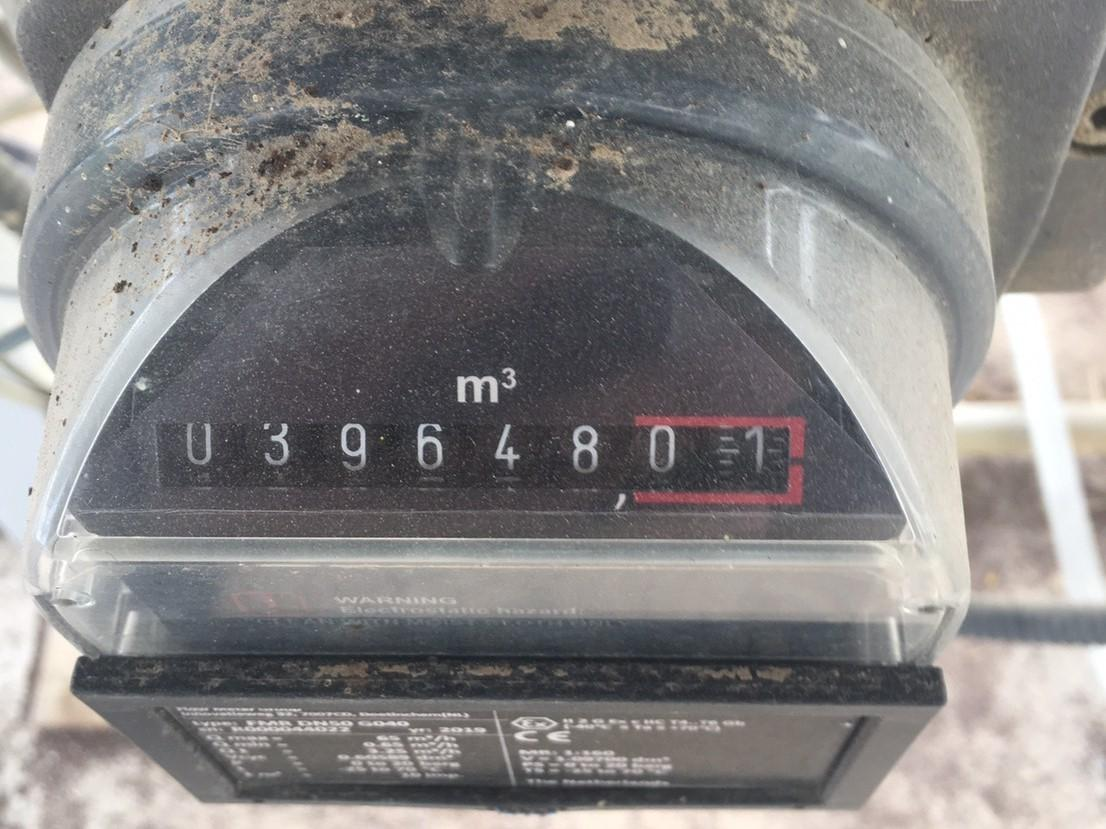analog_dial: (147, 411, 811, 516)
